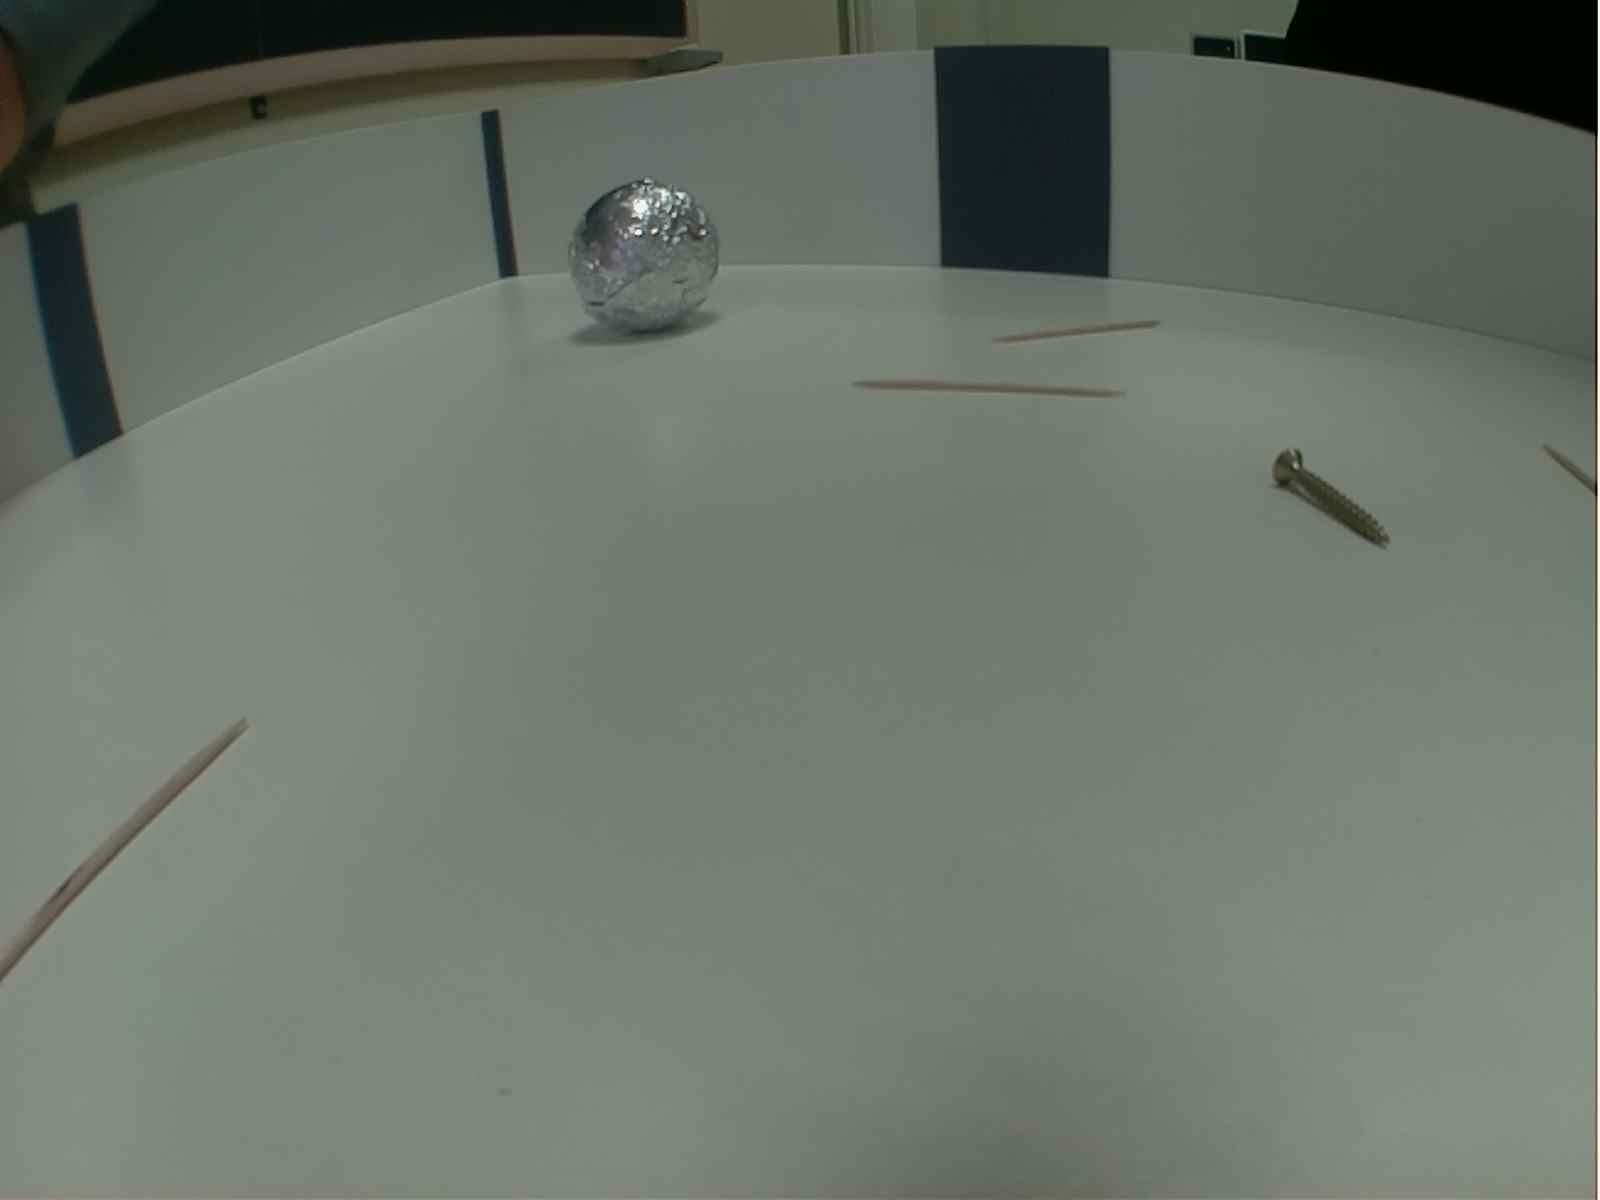bianca: (559, 176, 729, 347)
